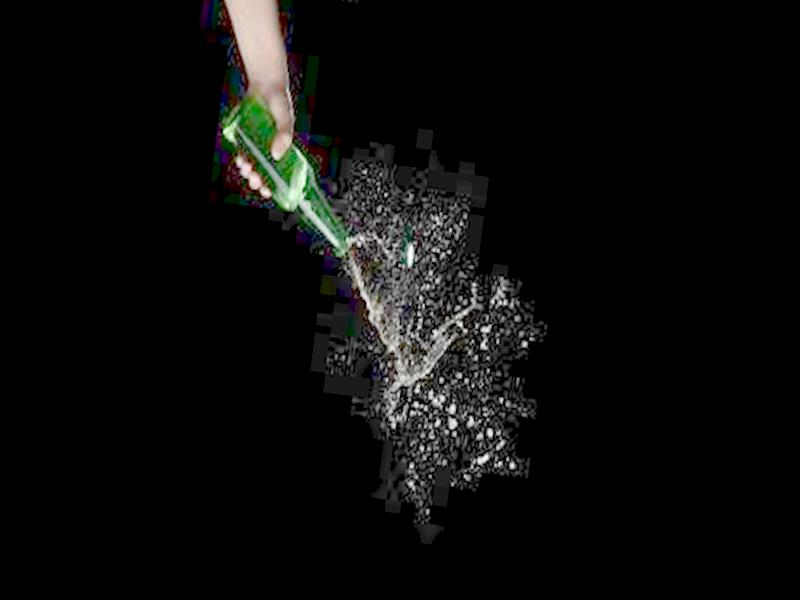Beer: (205, 86, 369, 255)
